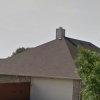Chimney: (52, 23, 70, 49)
